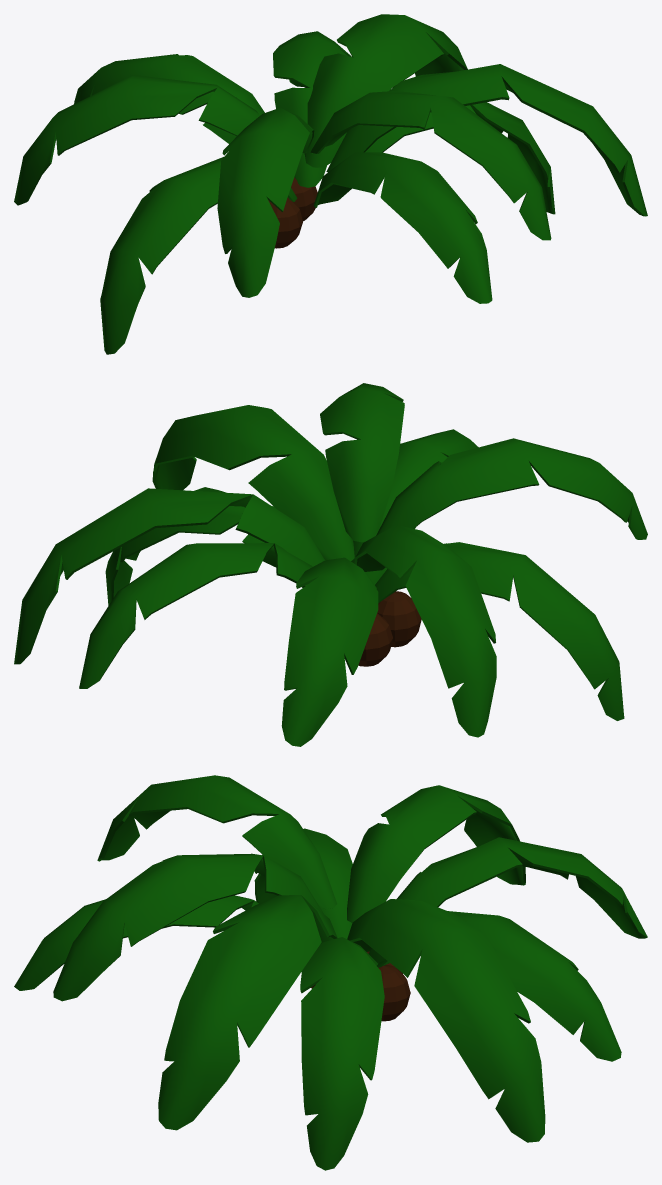
The model's file is palm3Korona.fbx.
3 renders of one model, top to bottom at view 1: azimuth 30°, elevation 25°; view 2: azimuth 150°, elevation 25°; view 3: azimuth 270°, elevation 25°, orthographic. The views are drawn at different scales.
Visible parts, largest first — view 1: Plane013; view 2: Plane013; view 3: Plane013.
Boxes of the visible parts, x1,y1,x2,y2 form: Plane013: (14, 14, 647, 354); Plane013: (14, 383, 647, 746); Plane013: (14, 775, 647, 1170).
Bounding box in the file's own units: 171 × 72.36 × 182.
